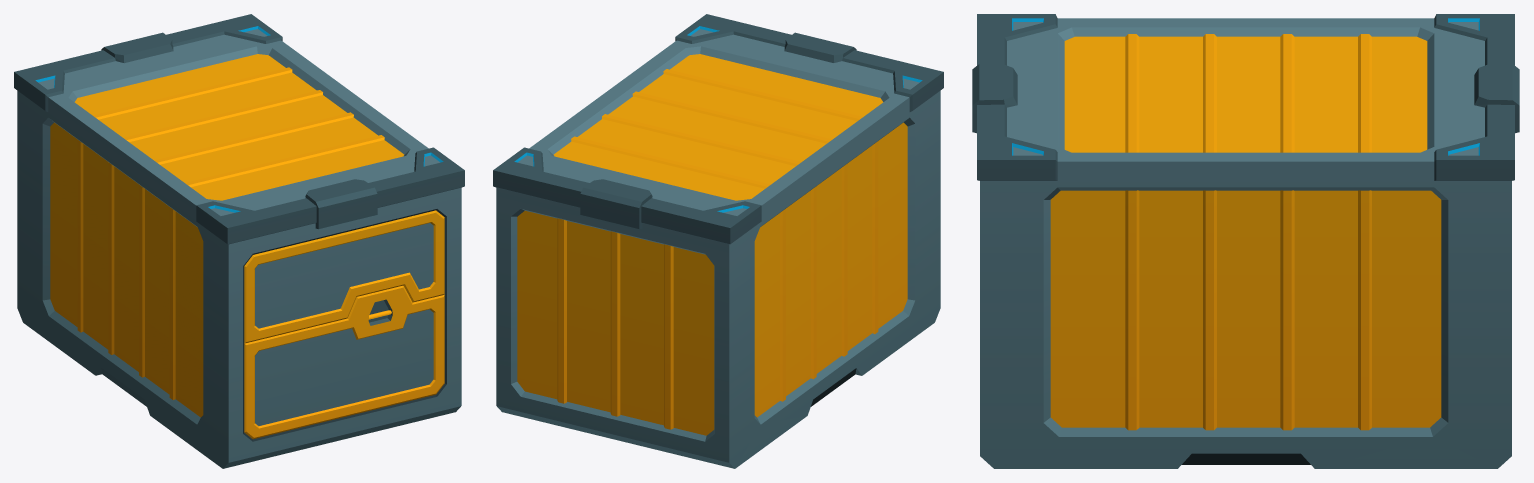
The model's file is Container_type_B_005.glb.
3 views of the same model, side by side, from view 1: azimuth 30°, elevation 25°; view 2: azimuth 150°, elevation 25°; view 3: azimuth 270°, elevation 25° (orthographic). The views are drawn at different scales.
Parts seen in each view (by area): view 1: Container_type_B_005, Container_type_B_door_005, Container_type_B_door_006; view 2: Container_type_B_005; view 3: Container_type_B_005.
Boxes of the visible parts, <box> form: Container_type_B_005: <box>14,14,464,468</box>; Container_type_B_door_005: <box>244,285,444,439</box>; Container_type_B_door_006: <box>244,210,444,343</box>; Container_type_B_005: <box>493,14,943,468</box>; Container_type_B_005: <box>972,14,1519,468</box>.
Size of the model in its own units: 2.44 by 2.46 by 3.87.
Materials: 2 (2 with a texture image).
